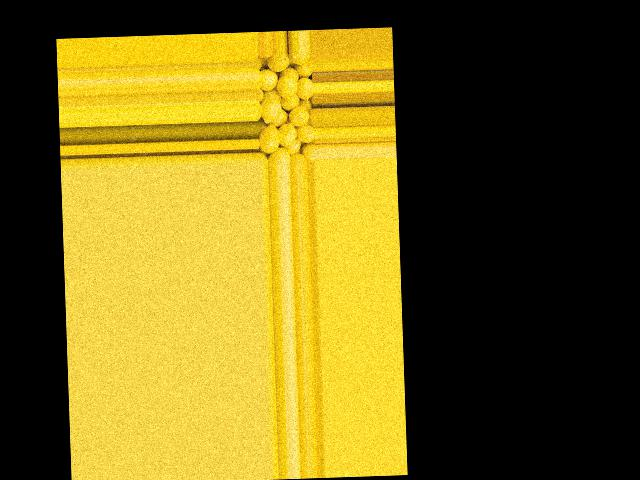lemon: (286, 106, 310, 125)
